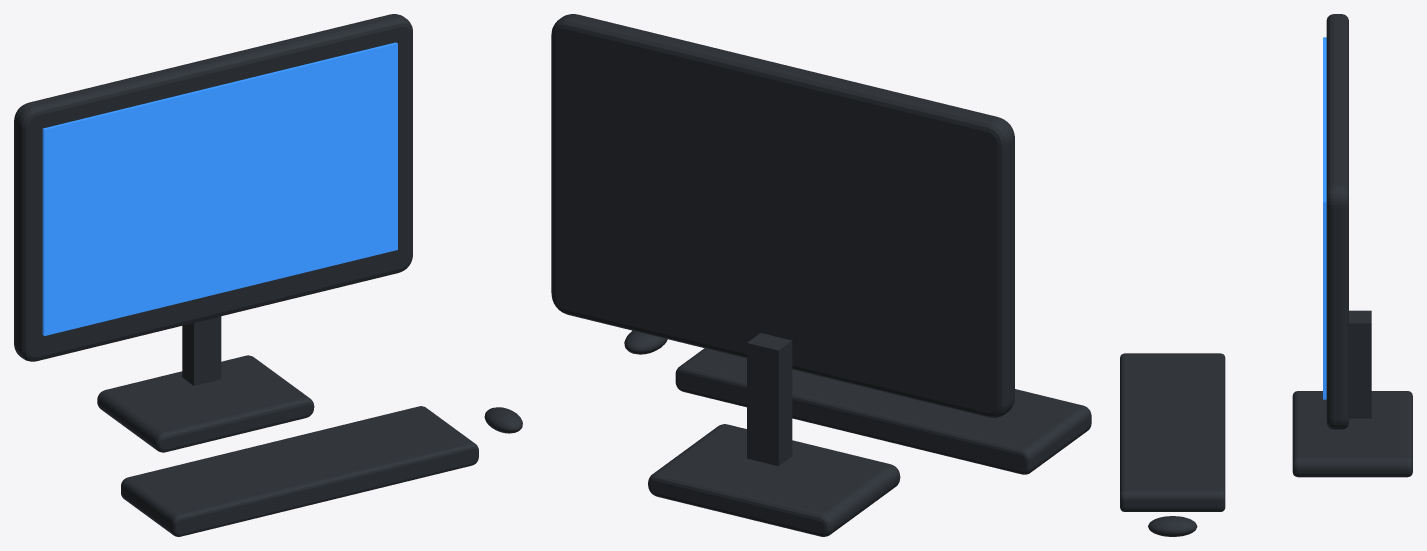
The model's file is computer.glb.
3 renders of one model, left to right at view 1: azimuth 30°, elevation 25°; view 2: azimuth 150°, elevation 25°; view 3: azimuth 270°, elevation 25°, orthographic. The views are drawn at different scales.
Parts seen in each view (by area): view 1: computer; view 2: computer; view 3: computer.
Boxes of the visible parts, bbox=[...] form: computer: bbox=[14, 14, 522, 536]; computer: bbox=[551, 14, 1091, 536]; computer: bbox=[1120, 14, 1412, 536].
Bounding box in the file's own units: 0.61 × 0.5048 × 0.39.
